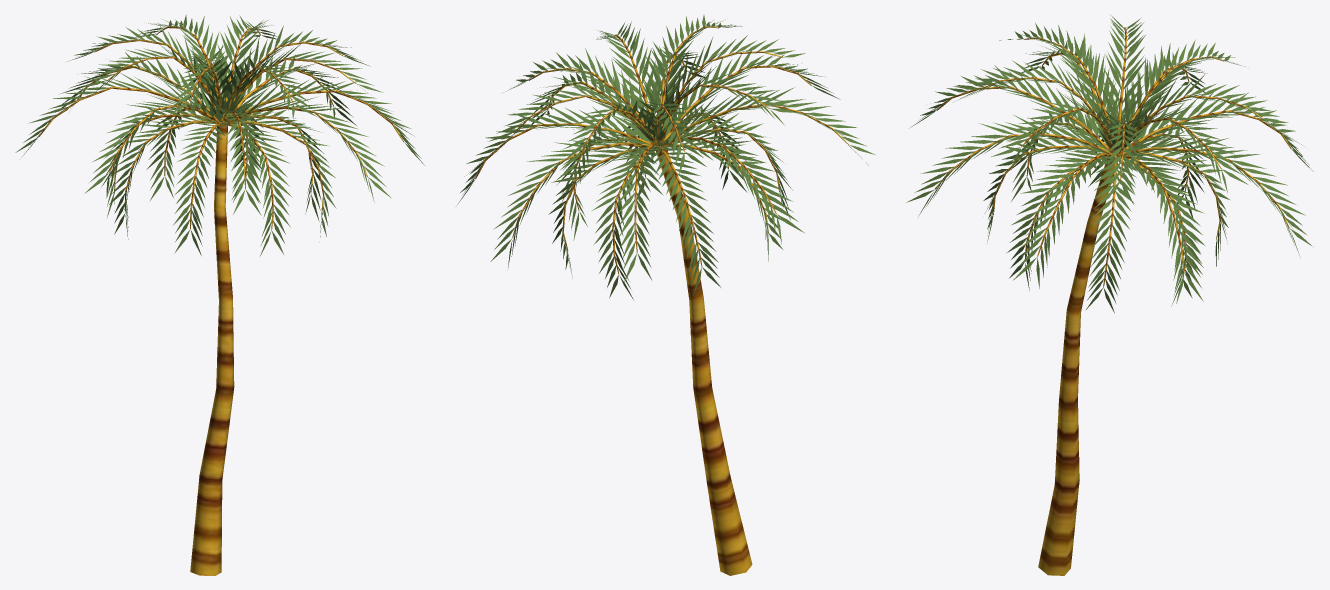
File: jungle_tree1.fbx
The picture shows the model from 3 angles, left to right: view 1: azimuth 30°, elevation 25°; view 2: azimuth 150°, elevation 25°; view 3: azimuth 270°, elevation 25°; orthographic projection. The views are drawn at different scales.
Visible parts, largest first — view 1: Layer0; view 2: Layer0; view 3: Layer0.
Part boxes in pixels (<box>): Layer0: <box>15,14,424,575</box>; Layer0: <box>457,15,875,575</box>; Layer0: <box>906,14,1313,575</box>.
Bounding box in the file's own units: 17239 × 17316 × 25022.
